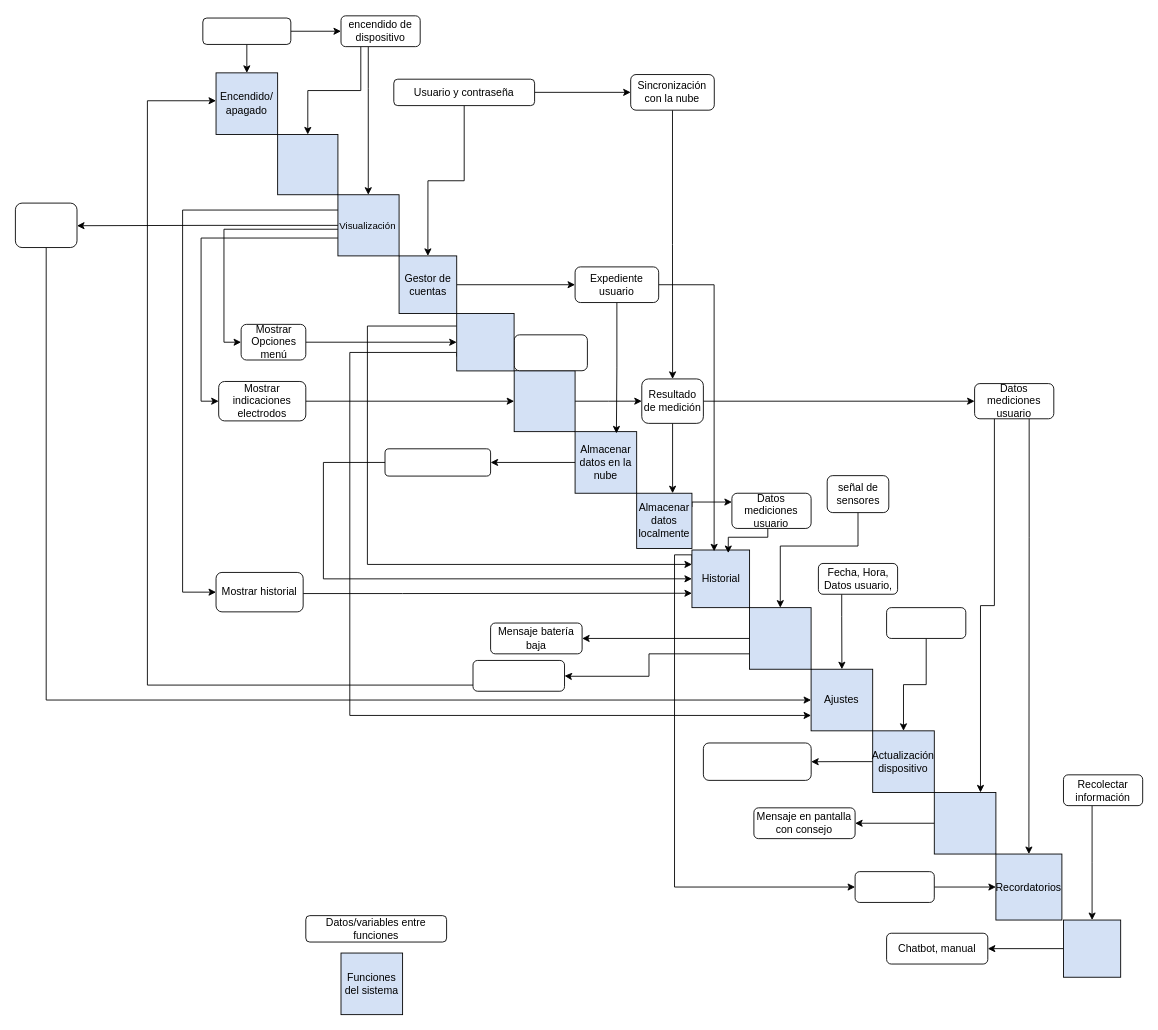
The diagram is 1158 pixels wide and 1030 high, and some of its shapes have lost their labels. Each missing label, with the box of its shape:
Actualizaciones disponibles: (886, 607, 966, 638)
Apagado emergencia: (472, 660, 565, 691)
Botón encendido: (202, 17, 291, 44)
Conectarse Wifi: (277, 134, 338, 195)
Consejos: (933, 792, 996, 854)
Datos de medición guardados de usuario: (384, 448, 491, 476)
Datos e historial usuario: (854, 871, 934, 902)
Detectar Errores: (749, 607, 811, 669)
Mensaje actualización disponible: (703, 742, 811, 780)
Menú: (456, 313, 514, 371)
Mostrar opciones ajustes: (15, 202, 77, 248)
Preguntas frecuentes: (1063, 919, 1121, 977)
Realizar medición: (513, 370, 575, 432)
Selección de medición: (513, 334, 587, 371)
